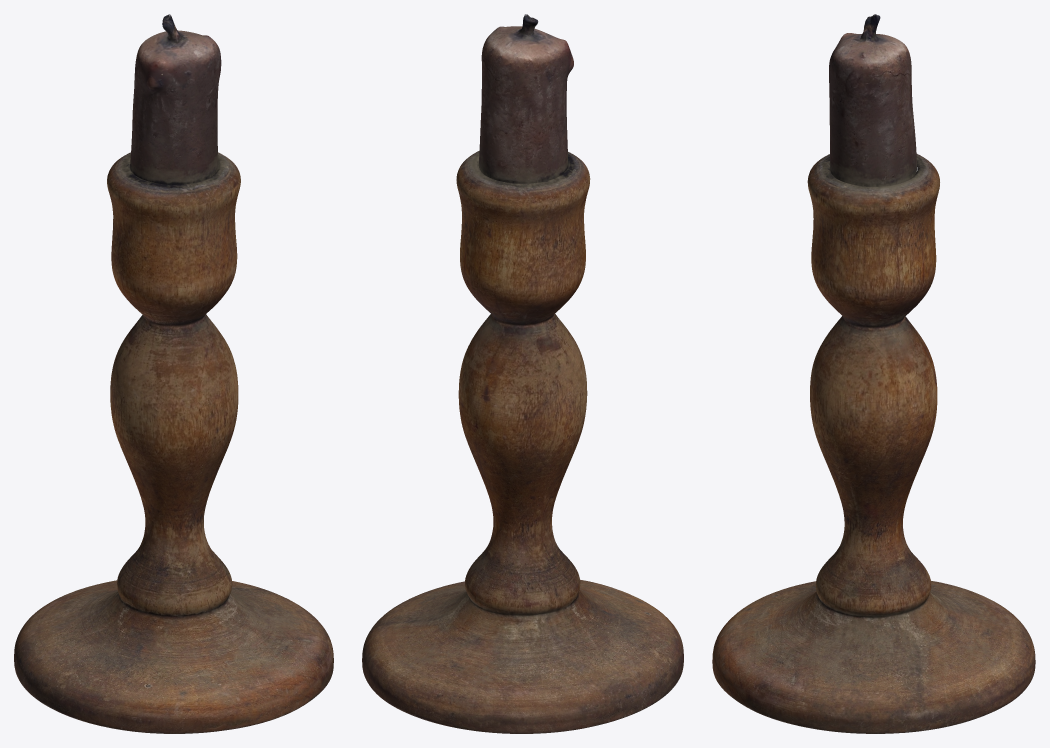
File: wooden_candlestick_lod.glb
3 views of the same model, side by side, from view 1: azimuth 30°, elevation 25°; view 2: azimuth 150°, elevation 25°; view 3: azimuth 270°, elevation 25° (orthographic).
Visible parts, largest first — view 1: wooden_candlestick; view 2: wooden_candlestick; view 3: wooden_candlestick.
Boxes of the visible parts, x1,y1,x2,y2 form: wooden_candlestick: (14, 14, 333, 733); wooden_candlestick: (362, 14, 683, 733); wooden_candlestick: (712, 14, 1035, 733).
Bounding box in the file's own units: 0.0972 × 0.2197 × 0.0987.
1 material, 1 textured.
